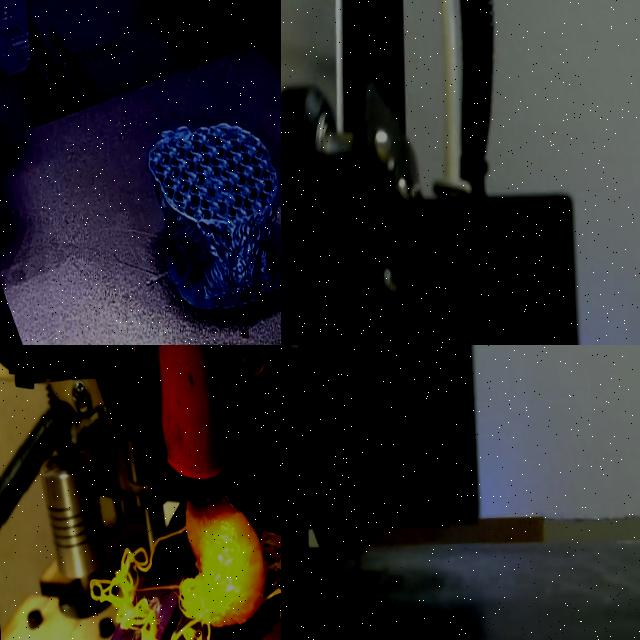spaghetti: (75, 464, 281, 640), (281, 560, 361, 587)
